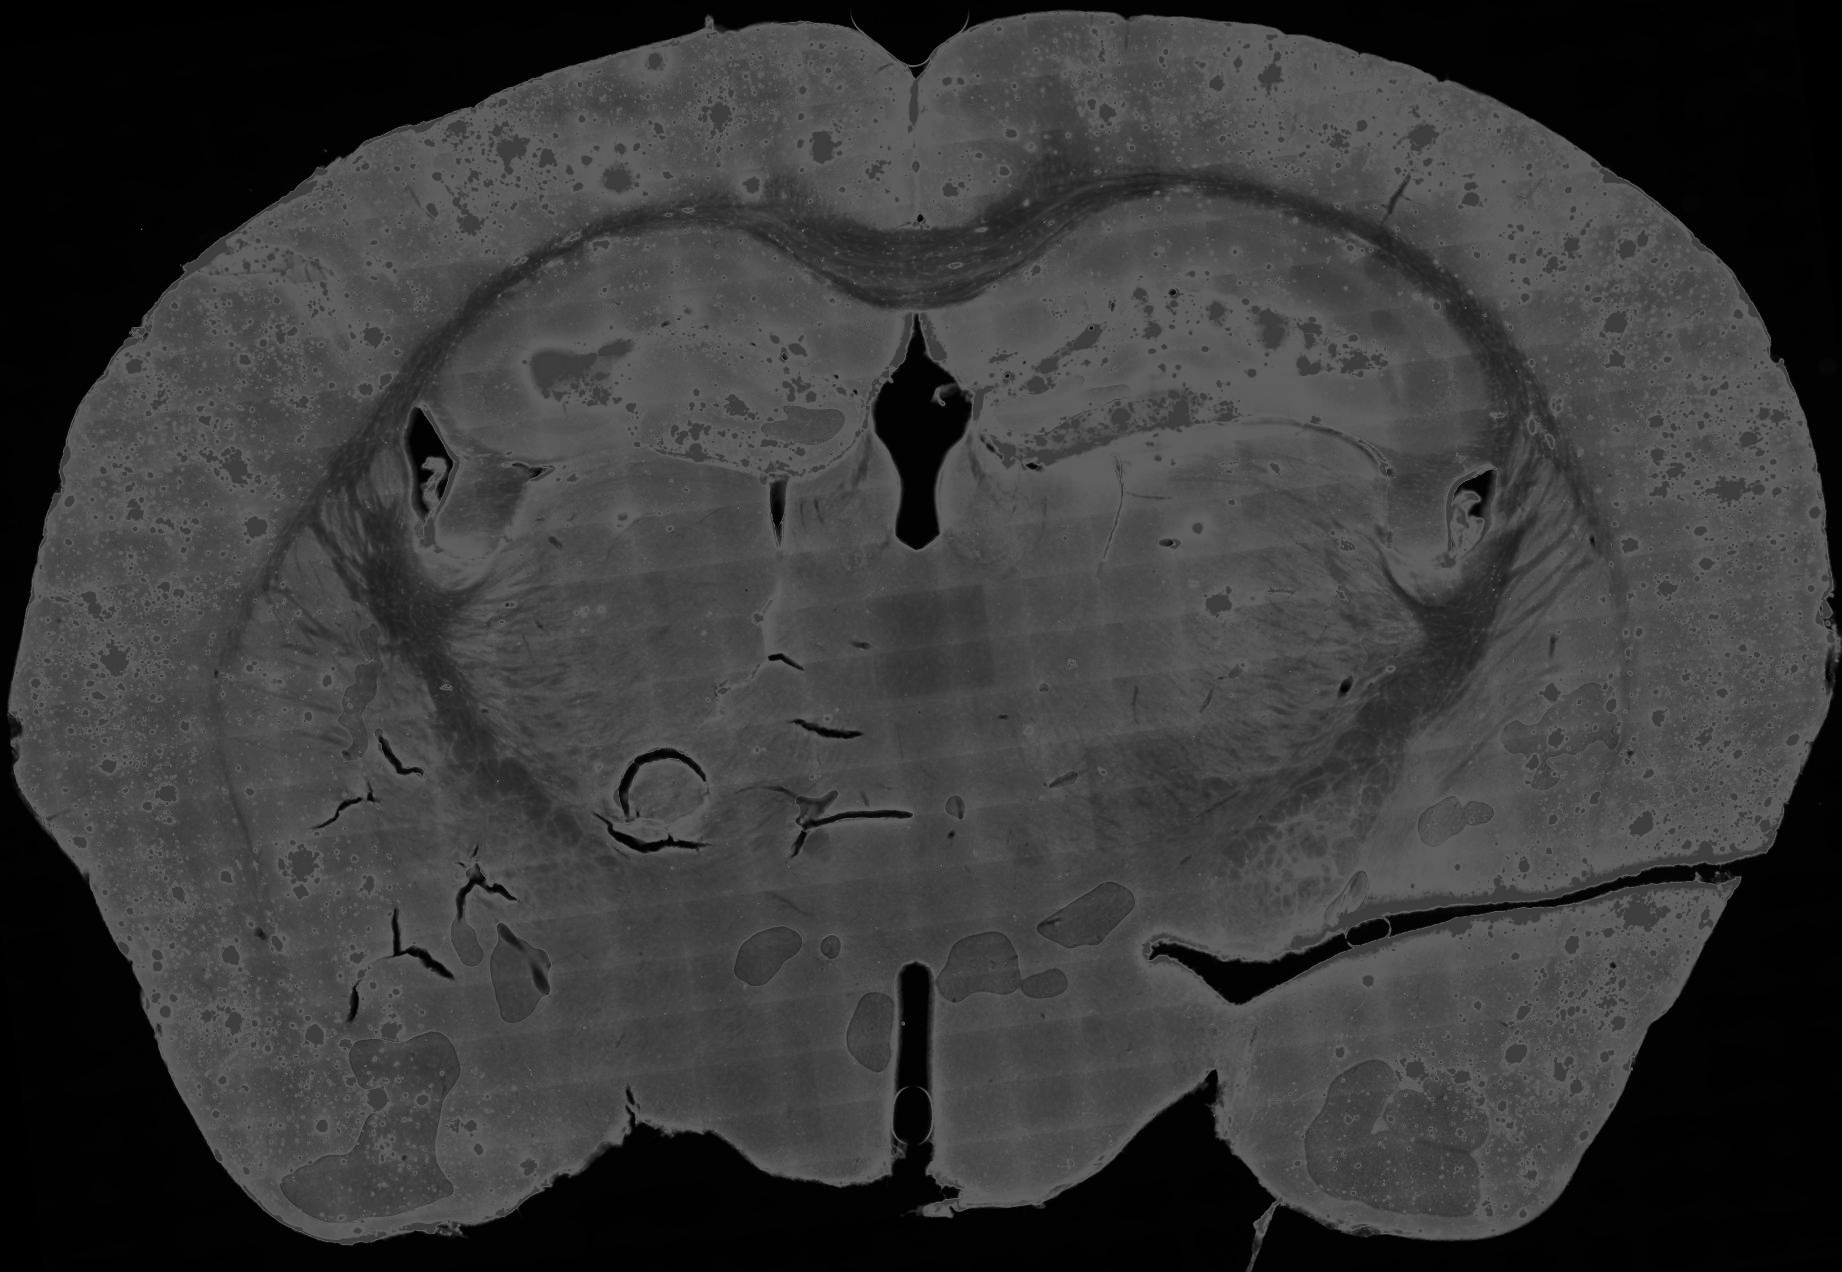Cerebral nuclei: (223, 448, 406, 907), (1472, 425, 1631, 824)
Hippocampal formation: (920, 195, 1489, 467), (440, 227, 910, 480)
Hypothalamus: (913, 772, 1306, 1217), (554, 866, 915, 1194)
Retrosplenial area: (794, 29, 920, 234), (914, 29, 1032, 229)
Somatosensory area: (1128, 15, 1836, 612), (29, 41, 693, 635)
Thalamus: (915, 418, 1426, 873), (442, 414, 918, 877)
